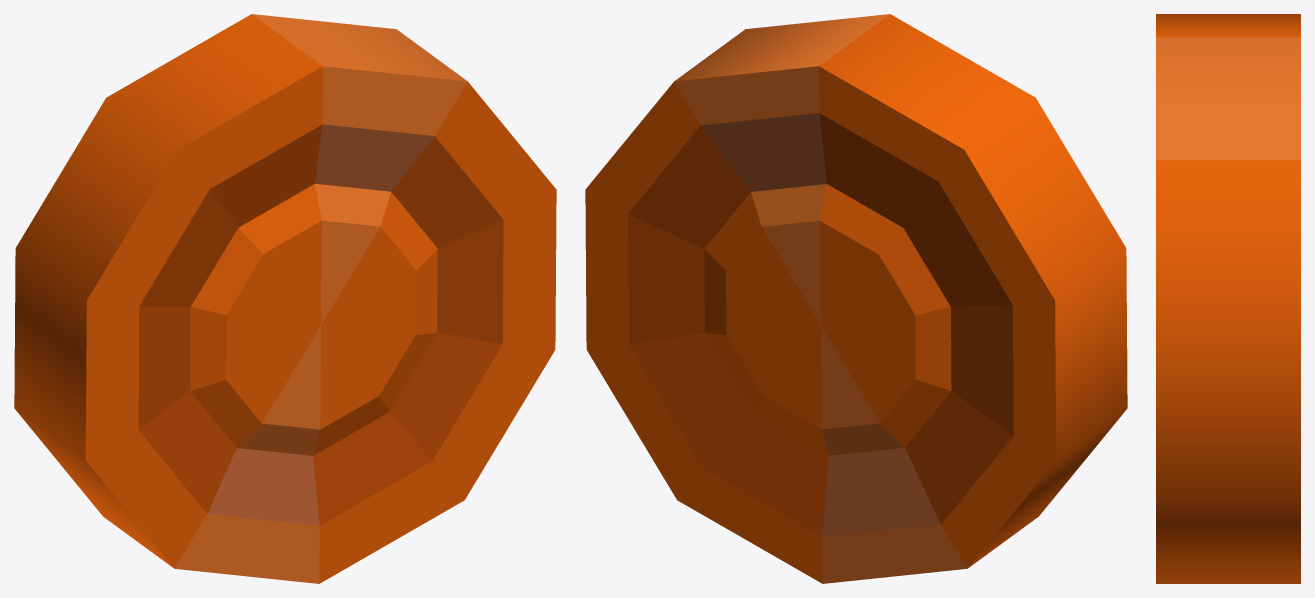
File: coin.fbx
3 renders of one model, left to right at view 1: azimuth 30°, elevation 25°; view 2: azimuth 150°, elevation 25°; view 3: azimuth 270°, elevation 25°, orthographic.
Visible parts, largest first — view 1: Coin; view 2: Coin; view 3: Coin.
Boxes of the visible parts, x1,y1,x2,y2 form: Coin: (14, 14, 556, 583); Coin: (585, 14, 1127, 583); Coin: (1156, 14, 1300, 583).
Size of the model in its own units: 17.97 by 18.85 by 4.71.
